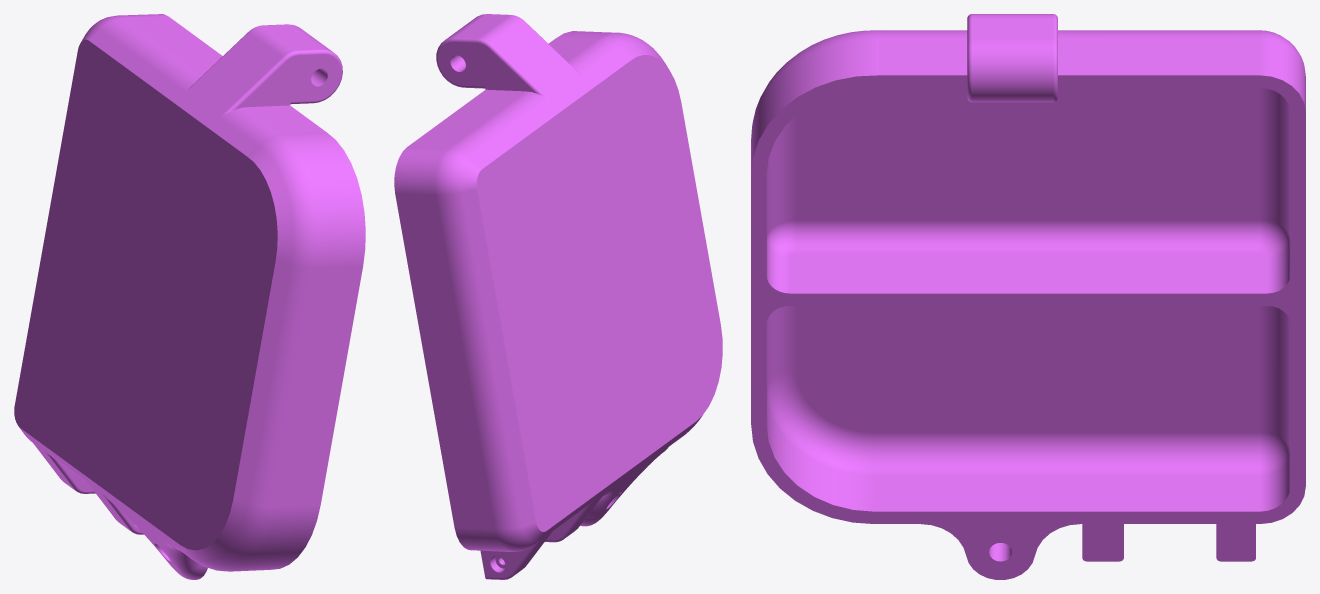
Rendered from ButtPlate_v3_QR.glb.
The picture shows the model from 3 angles, left to right: view 1: azimuth 30°, elevation 25°; view 2: azimuth 150°, elevation 25°; view 3: azimuth 270°, elevation 25°; orthographic projection. The views are drawn at different scales.
Parts seen in each view (by area): view 1: ButtPlate v3 QR; view 2: ButtPlate v3 QR; view 3: ButtPlate v3 QR.
Part boxes in pixels (x1,y1,x2,y2): ButtPlate v3 QR: (14, 14, 365, 579); ButtPlate v3 QR: (394, 14, 722, 579); ButtPlate v3 QR: (751, 14, 1305, 579).
Bounding box in the file's own units: 0.0774 × 0.1871 × 0.1524.
